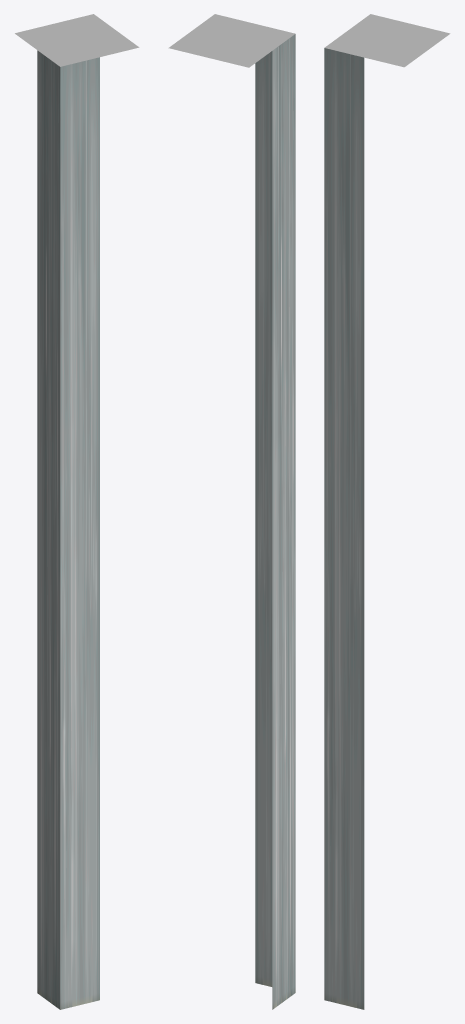
Rendered from W_I__Eckverschluß [Türkis2]_1299.glb.
3 views of the same model, side by side, from view 1: azimuth 30°, elevation 25°; view 2: azimuth 150°, elevation 25°; view 3: azimuth 330°, elevation 25° (orthographic).
Parts seen in each view (by area): view 1: pPlaneShape7, pPlaneShape11; view 2: pPlaneShape7, pPlaneShape11; view 3: pPlaneShape7, pPlaneShape11.
Boxes of the visible parts, <box> form: pPlaneShape7: <box>37,50,99,1009</box>; pPlaneShape11: <box>15,14,139,66</box>; pPlaneShape7: <box>255,34,295,1009</box>; pPlaneShape11: <box>168,14,295,67</box>; pPlaneShape7: <box>324,48,364,1009</box>; pPlaneShape11: <box>324,14,450,67</box>.
Size of the model in its own units: 0.0307 by 0.3486 by 0.0307.
Materials: 2 (1 with a texture image).
